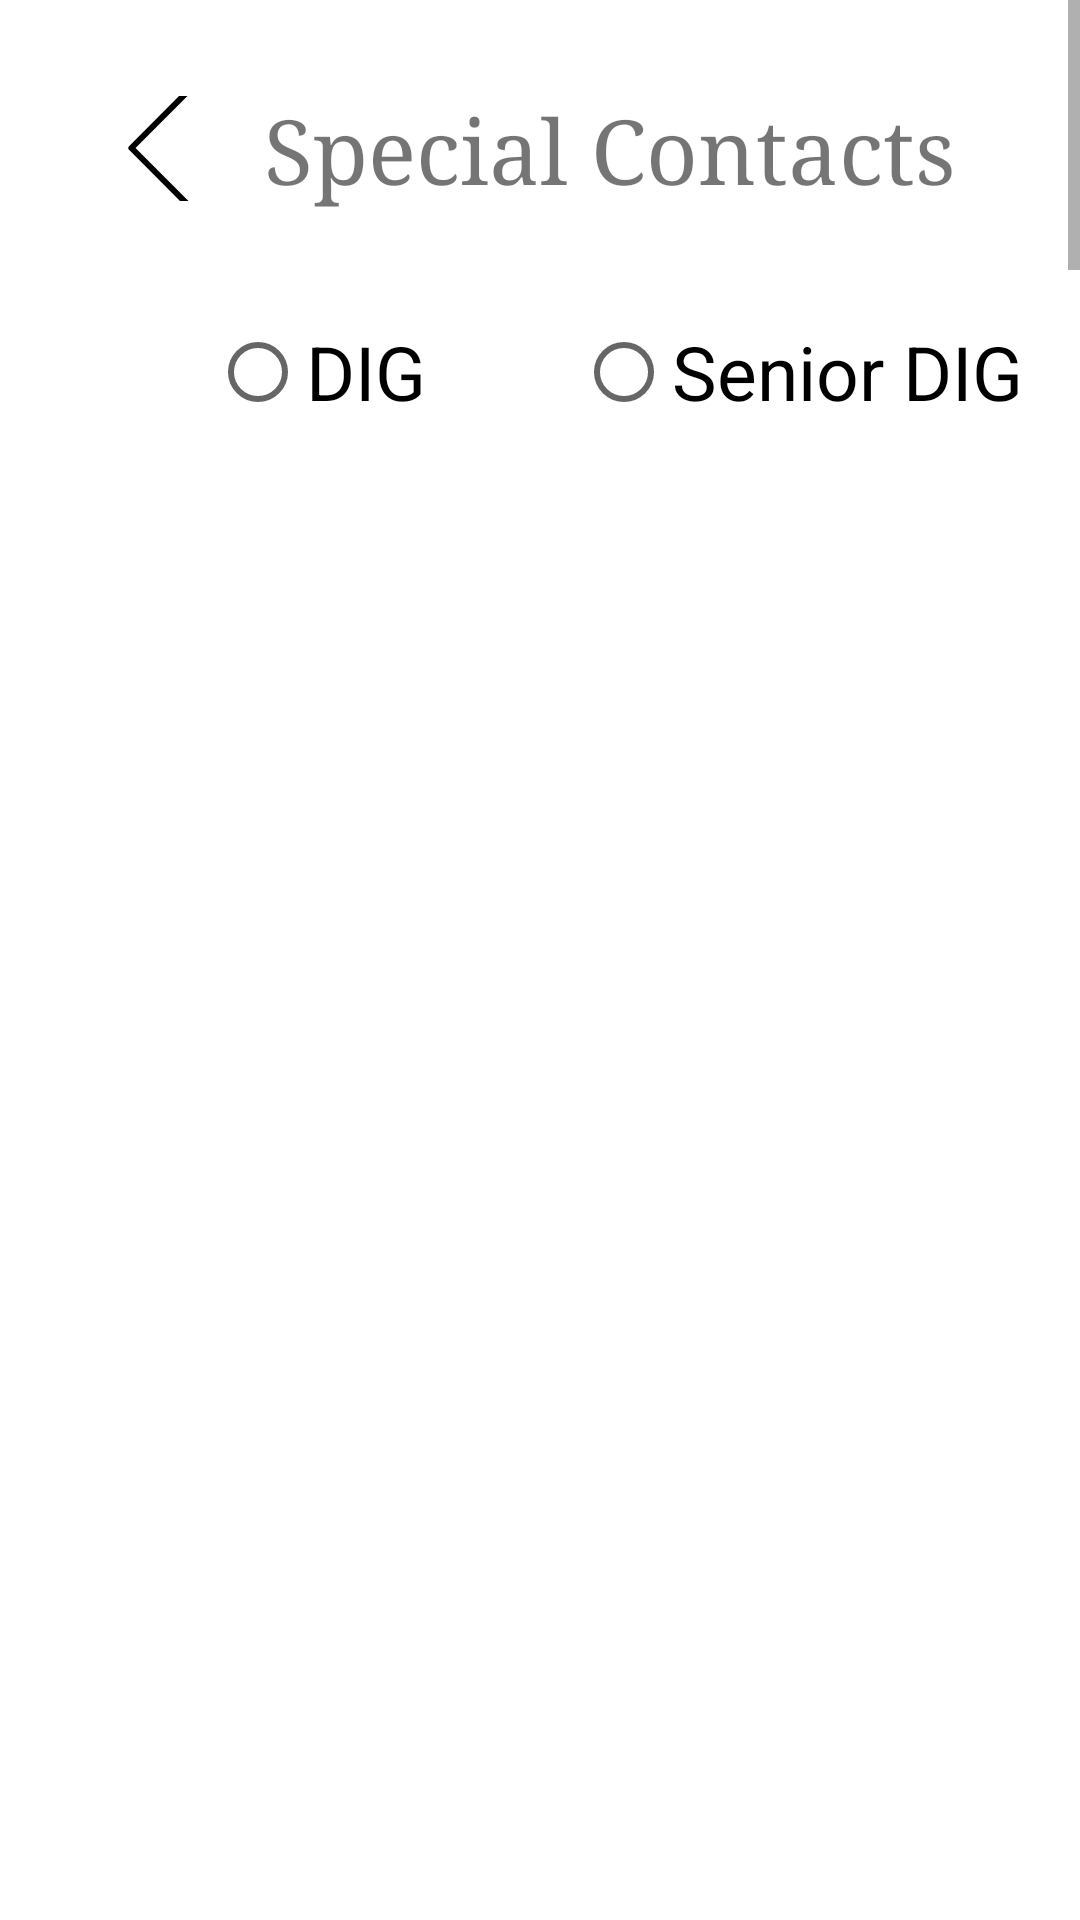

Icon click points for this 1080w x 1920h phone screenshot, format [x,y]:
return back: [158,148]
